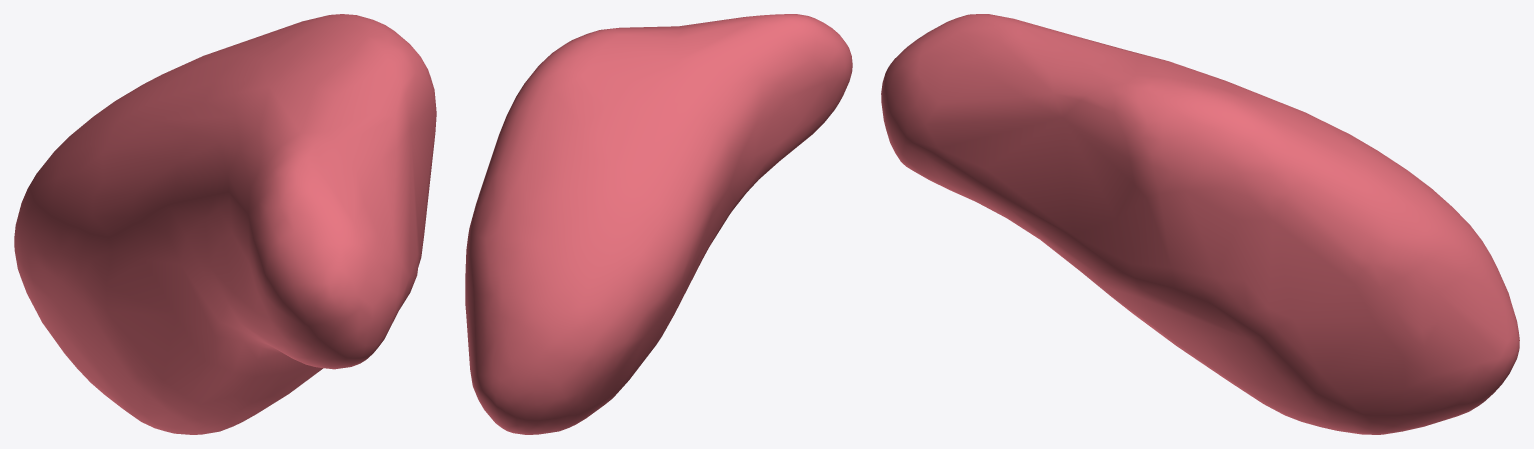
File: fma51402_fj5064.glb
3 renders of one model, left to right at view 1: azimuth 30°, elevation 25°; view 2: azimuth 150°, elevation 25°; view 3: azimuth 270°, elevation 25°, orthographic. The views are drawn at different scales.
Parts seen in each view (by area): view 1: FMA51402_FJ5064; view 2: FMA51402_FJ5064; view 3: FMA51402_FJ5064.
Part boxes in pixels (x1,y1,x2,y2): FMA51402_FJ5064: [14, 14, 436, 434]; FMA51402_FJ5064: [465, 14, 852, 434]; FMA51402_FJ5064: [881, 14, 1519, 434].
Size of the model in its own units: 0.0107 by 0.0152 by 0.0235.
